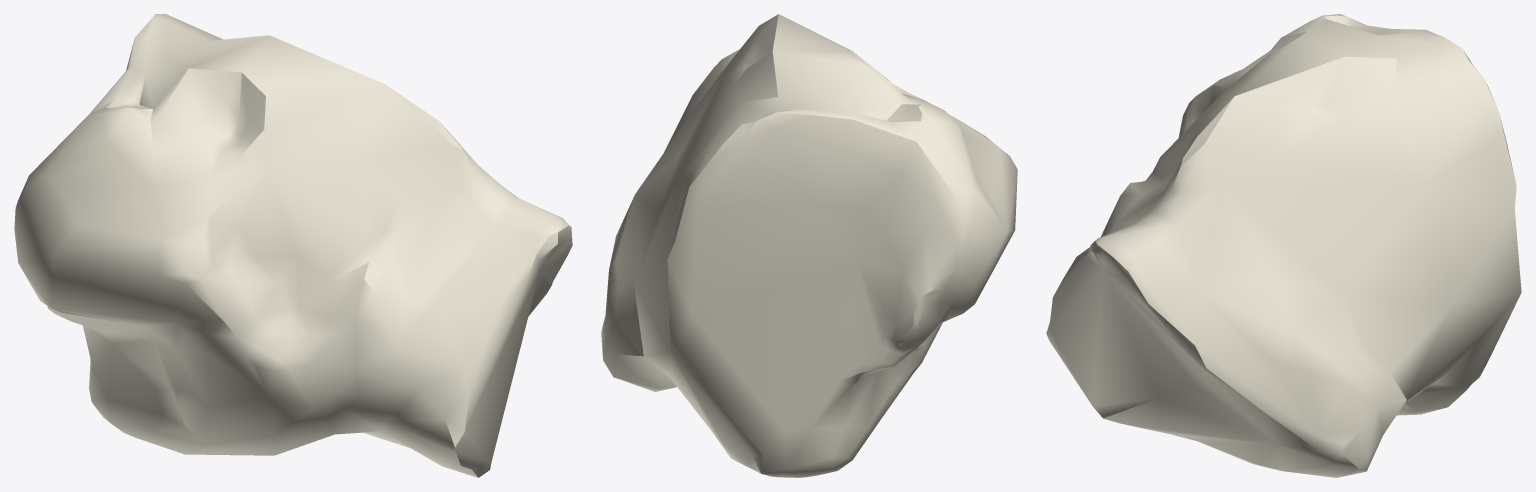
File: fma24529_fj6369.glb
3 views of the same model, side by side, from view 1: azimuth 30°, elevation 25°; view 2: azimuth 150°, elevation 25°; view 3: azimuth 270°, elevation 25° (orthographic). The views are drawn at different scales.
Parts seen in each view (by area): view 1: FMA24529_FJ6369; view 2: FMA24529_FJ6369; view 3: FMA24529_FJ6369.
Part boxes in pixels (x1,y1,x2,y2): FMA24529_FJ6369: (14,14,572,477); FMA24529_FJ6369: (601,14,1017,477); FMA24529_FJ6369: (1046,14,1521,477).
Size of the model in its own units: 0.0327 by 0.0288 by 0.0338.
